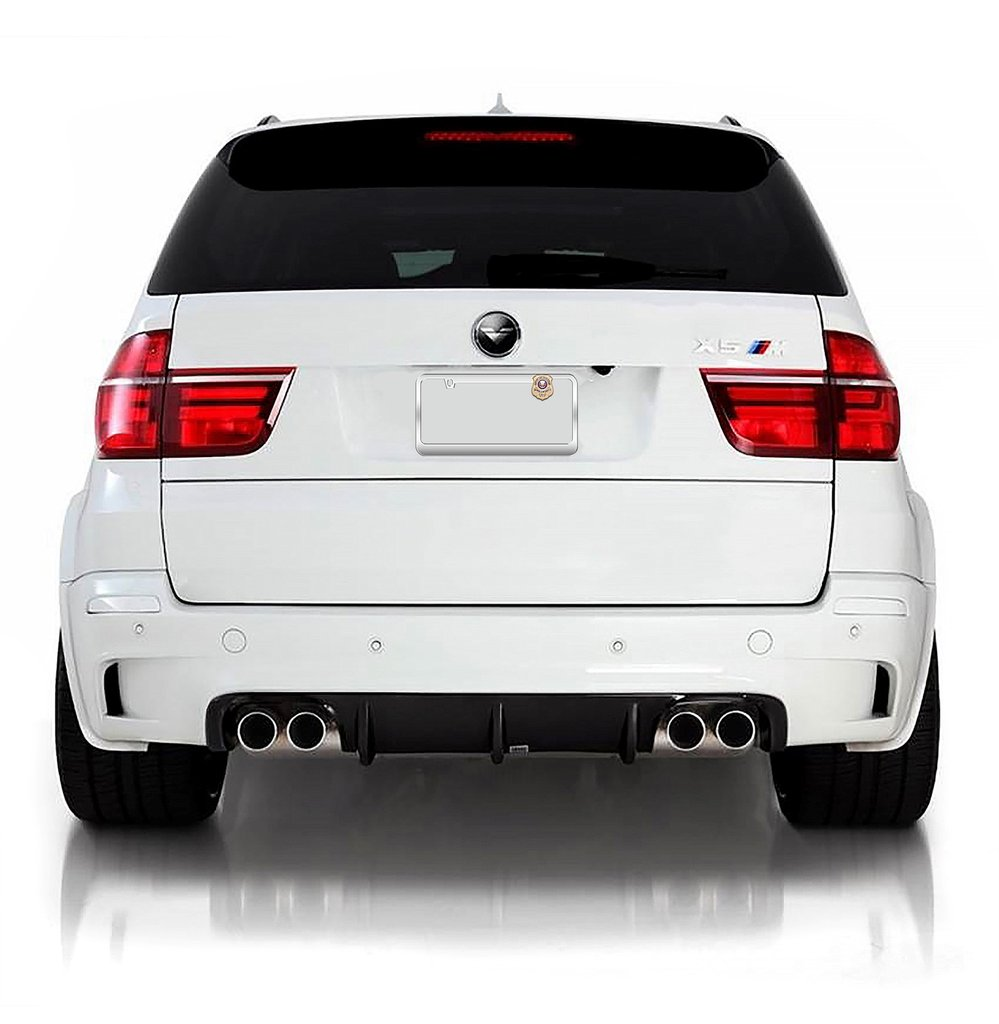license plate: (414, 371, 579, 457)
